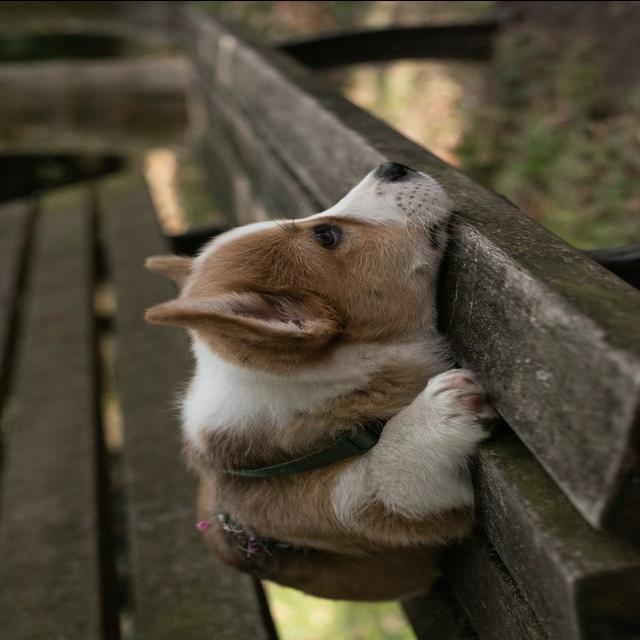corgi: (141, 158, 500, 603)
